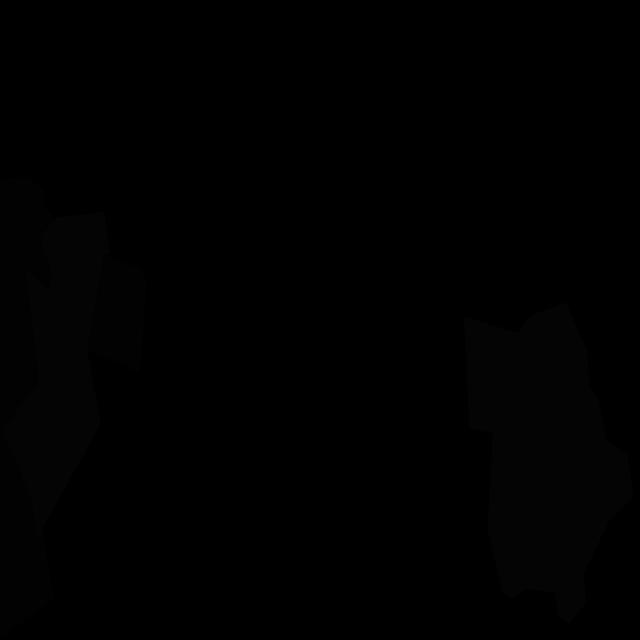cardboard: (0, 176, 55, 637), (87, 253, 147, 373)
soft_plastic: (464, 302, 634, 624), (2, 212, 110, 535)
